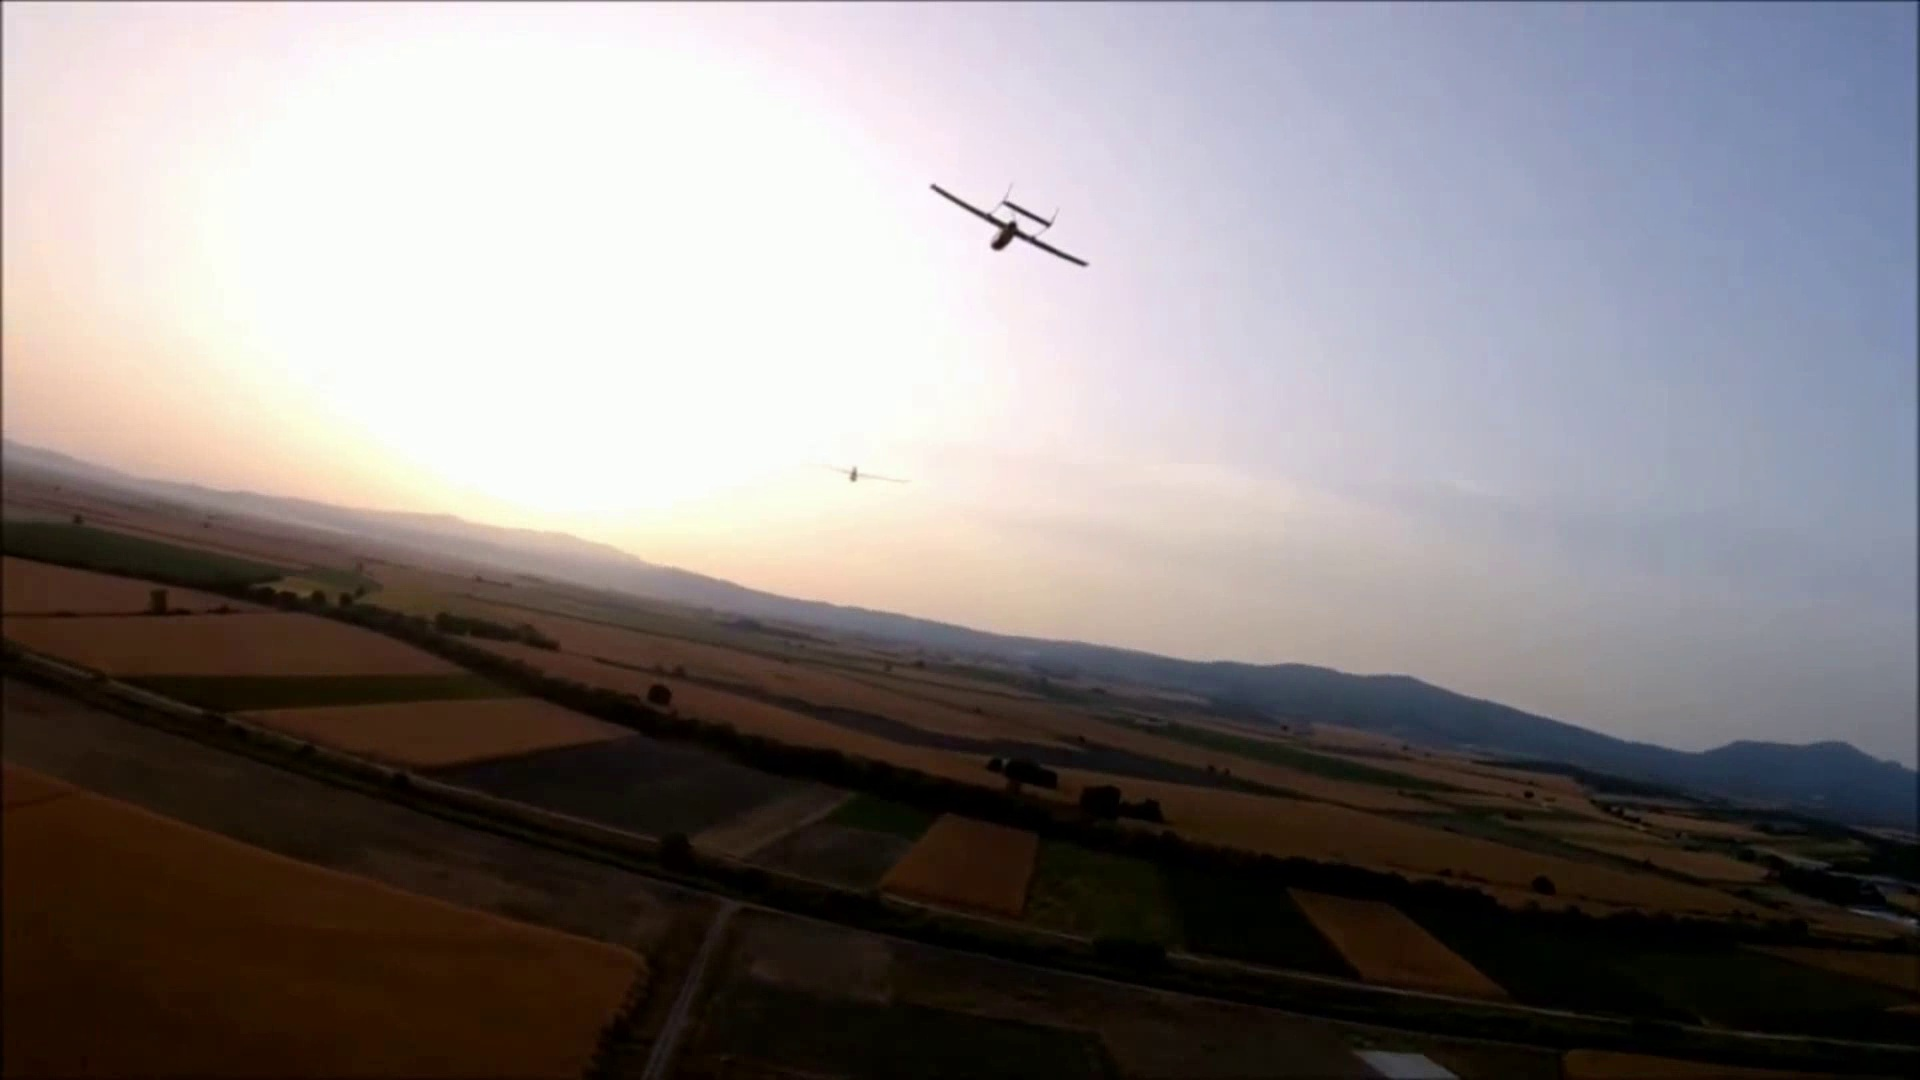airplane: (4, 17, 1915, 1025), (926, 183, 1092, 266)
